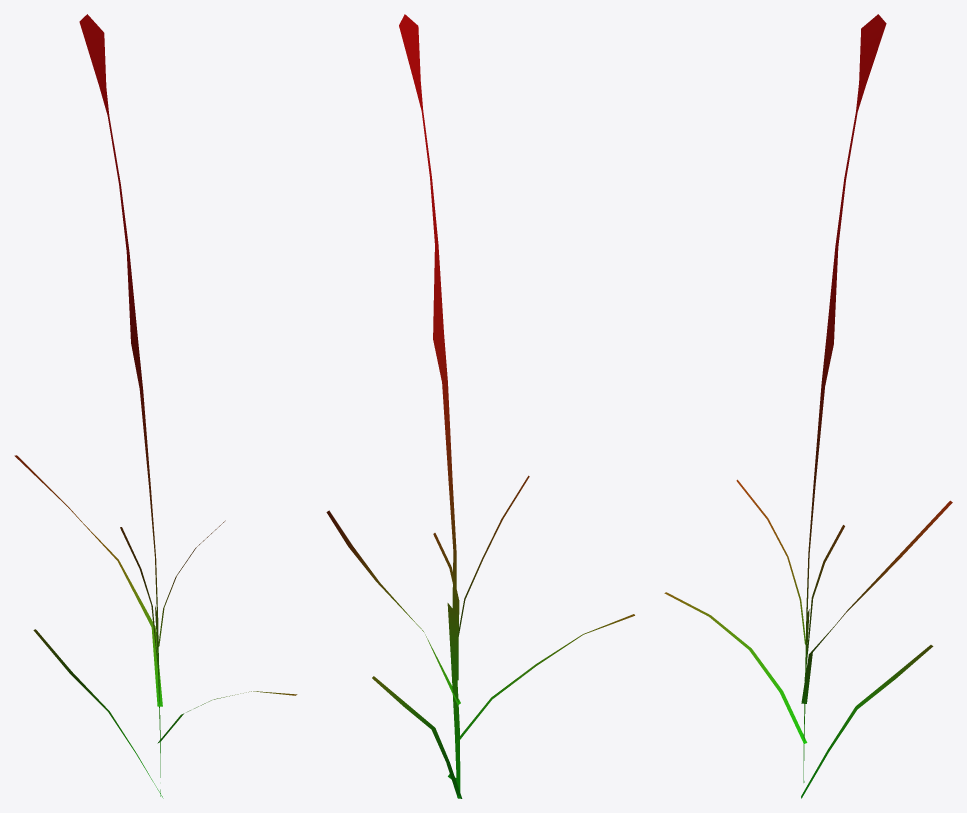
The model's file is Tundra Grass_LOD3_Var35_wk2oaeyqx.fbx.
The picture shows the model from 3 angles, left to right: view 1: azimuth 90°, elevation 25°; view 2: azimuth 150°, elevation 25°; view 3: azimuth 270°, elevation 25°; orthographic projection. The views are drawn at different scales.
Visible parts, largest first — view 1: _yjdc_Var35_LOD3; view 2: _yjdc_Var35_LOD3; view 3: _yjdc_Var35_LOD3.
Boxes of the visible parts, x1,y1,x2,y2 form: _yjdc_Var35_LOD3: [14, 14, 297, 798]; _yjdc_Var35_LOD3: [326, 14, 634, 798]; _yjdc_Var35_LOD3: [664, 14, 952, 798].
Size of the model in its own units: 10.8 by 49.61 by 16.41.
